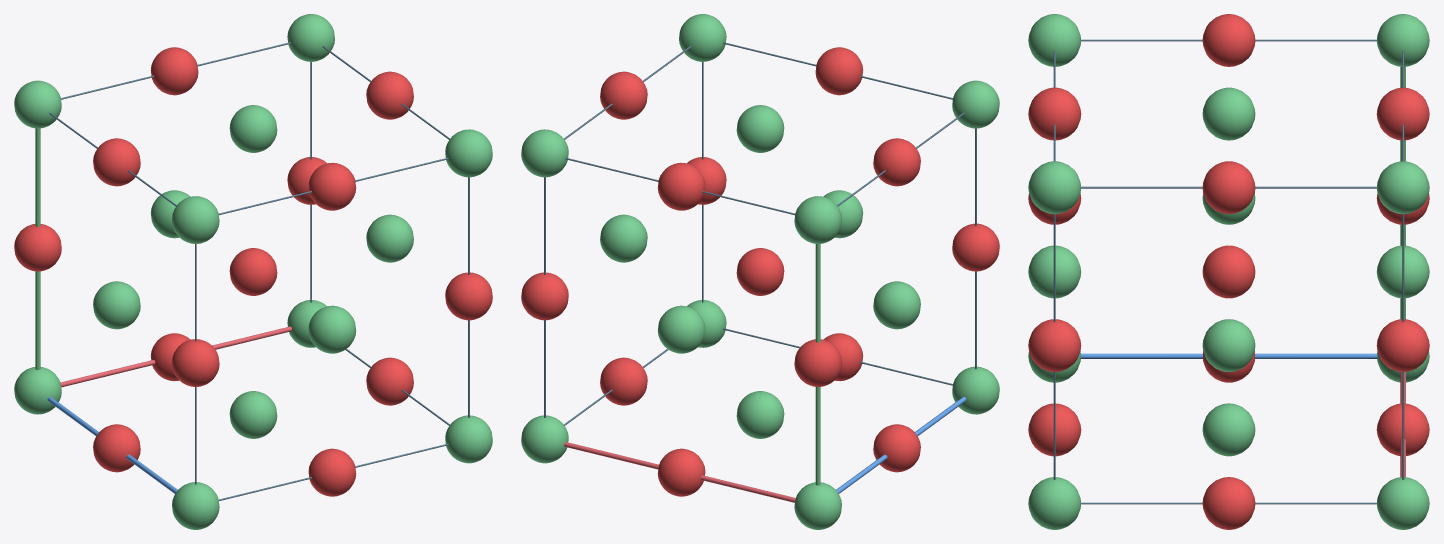
Rendered from chat-periclase.glb.
The picture shows the model from 3 angles, left to right: view 1: azimuth 30°, elevation 25°; view 2: azimuth 150°, elevation 25°; view 3: azimuth 270°, elevation 25°; orthographic projection. The views are drawn at different scales.
Parts seen in each view (by area): view 1: Mg · Mg · 1 (×14), O · O · 1 (×13), Ô mạng và các trục a, b, c; view 2: Mg · Mg · 1 (×14), O · O · 1 (×13), Ô mạng và các trục a, b, c; view 3: Mg · Mg · 1 (×14), O · O · 1 (×13), Ô mạng và các trục a, b, c.
Boxes of the visible parts, <box> form: Mg · Mg · 1 (×14): <box>14,14,492,529</box>; O · O · 1 (×13): <box>14,47,492,496</box>; Ô mạng và các trục a, b, c: <box>35,42,469,500</box>; Mg · Mg · 1 (×14): <box>521,14,999,529</box>; O · O · 1 (×13): <box>521,47,999,496</box>; Ô mạng và các trục a, b, c: <box>544,42,976,502</box>; Mg · Mg · 1 (×14): <box>1028,14,1429,529</box>; O · O · 1 (×13): <box>1028,14,1429,529</box>; Ô mạng và các trục a, b, c: <box>1053,39,1405,504</box>.
Size of the model in its own units: 4.85 by 4.85 by 4.85.
